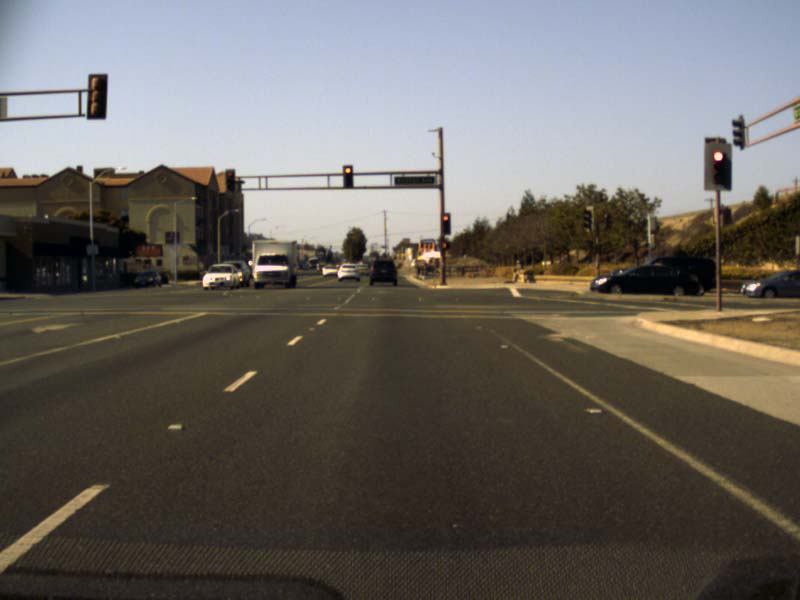Red: (711, 151, 727, 185), (343, 165, 353, 188), (225, 169, 235, 192), (441, 213, 450, 234)
